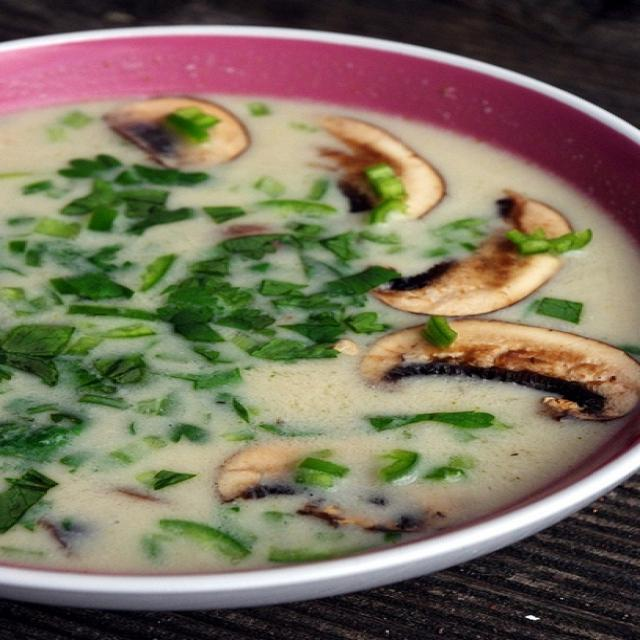汤锅炖物: (11, 34, 620, 616)
